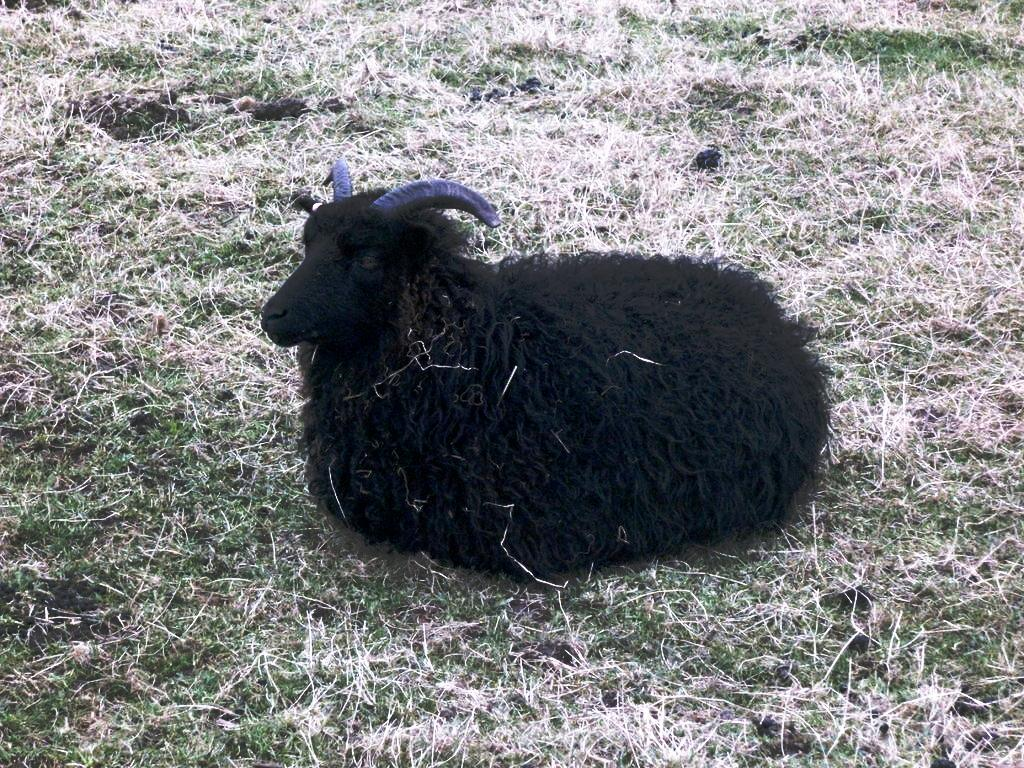Sheep: (260, 162, 838, 580)
